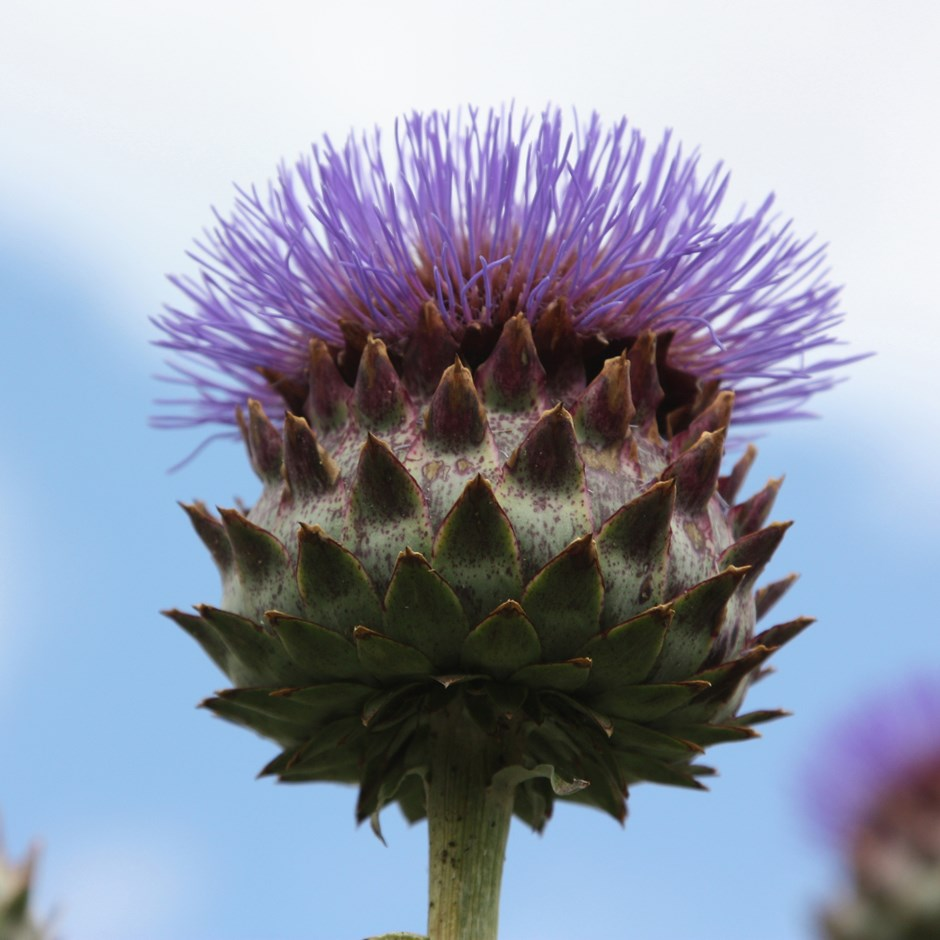thistle: (141, 99, 849, 828)
